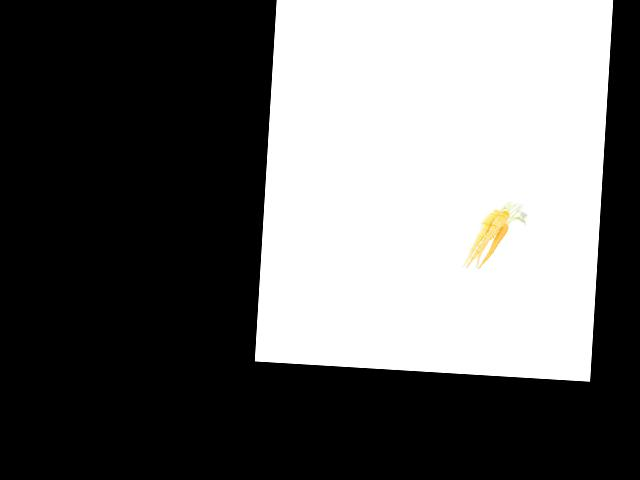carrot: (461, 204, 501, 270)
